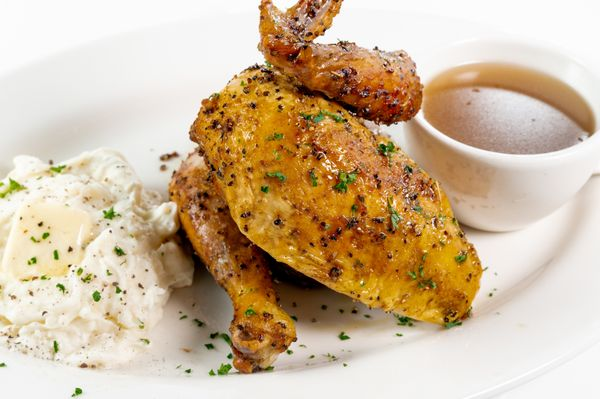soup: (179, 63, 485, 333)
